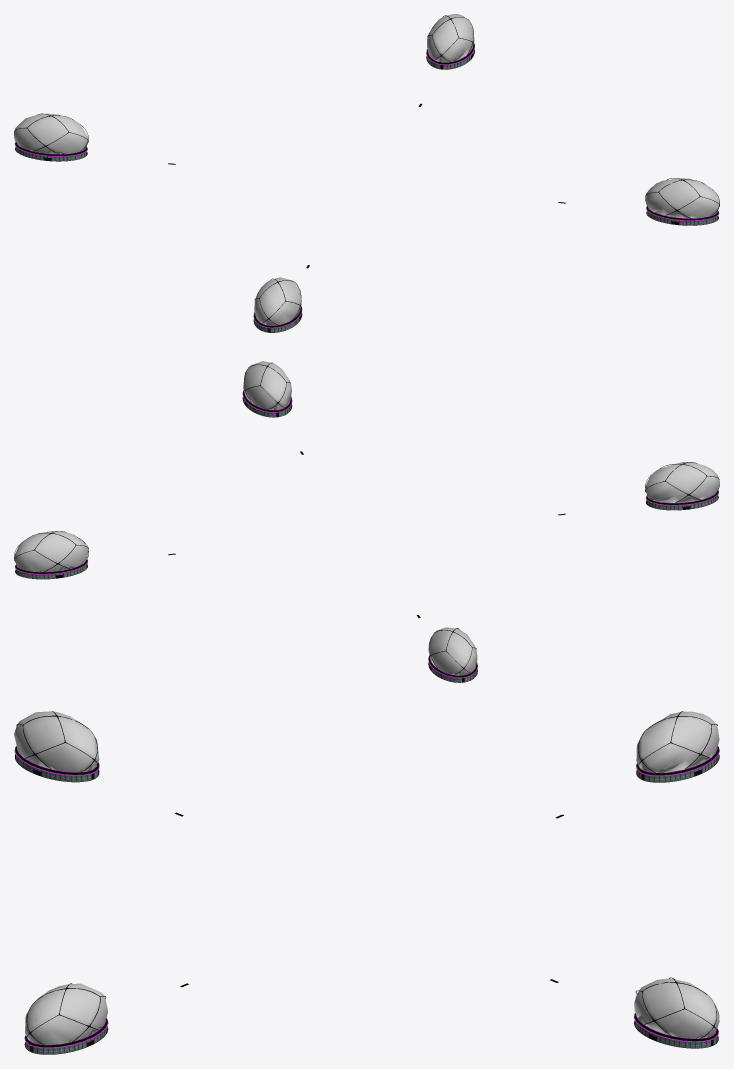
The model's file is Dome_Attached.fbx.
The picture shows the model from 3 angles, top to bottom: view 1: azimuth 30°, elevation 25°; view 2: azimuth 150°, elevation 25°; view 3: azimuth 270°, elevation 25°; orthographic projection. The views are drawn at different scales.
Visible parts, largest first — view 1: Dome; view 2: Dome; view 3: Dome.
Part boxes in pixels (left/top/right/bottom): Dome: left=14, top=14, right=719, bottom=332; Dome: left=14, top=361, right=719, bottom=682; Dome: left=14, top=711, right=719, bottom=1054.
Size of the model in its own units: 43558 by 3208 by 42127.
